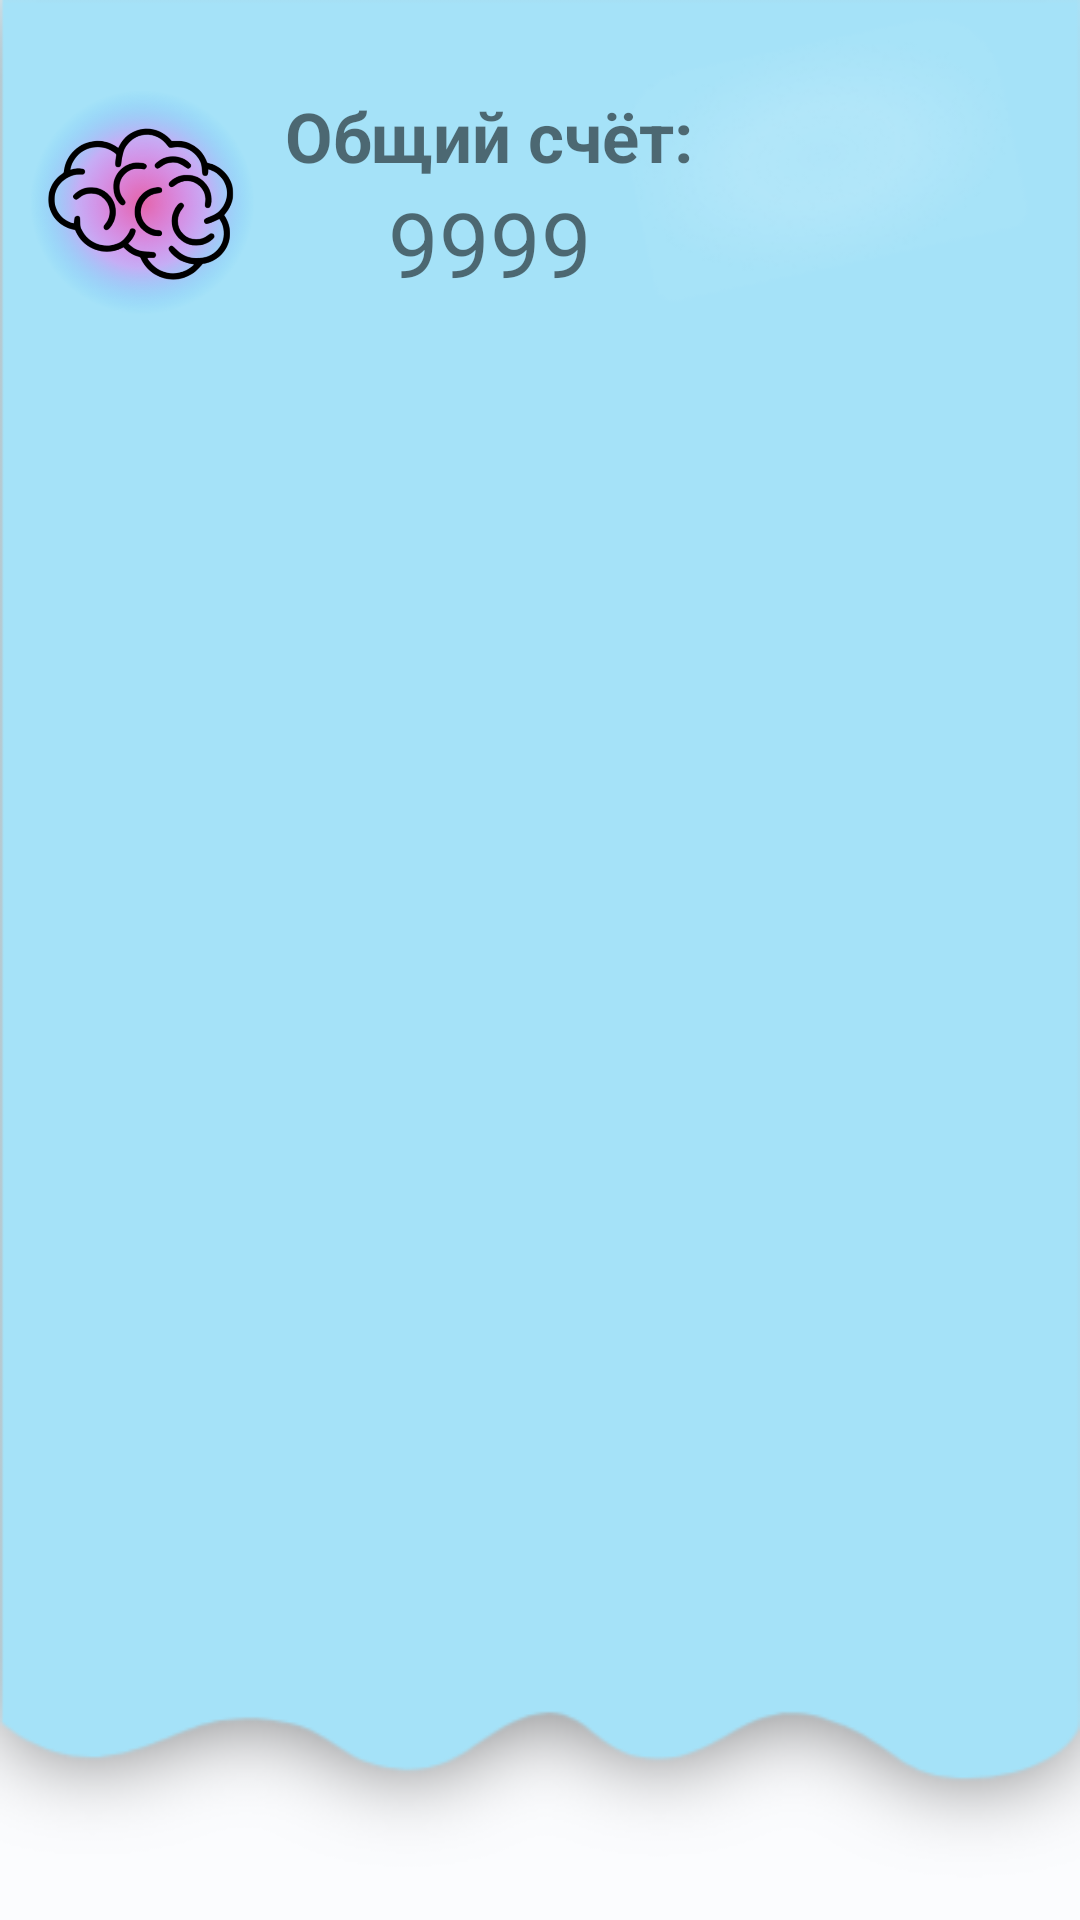

Where to tap for icons on this 1080w x 1920h app screen, as (x,y):
brain: (141,203)
